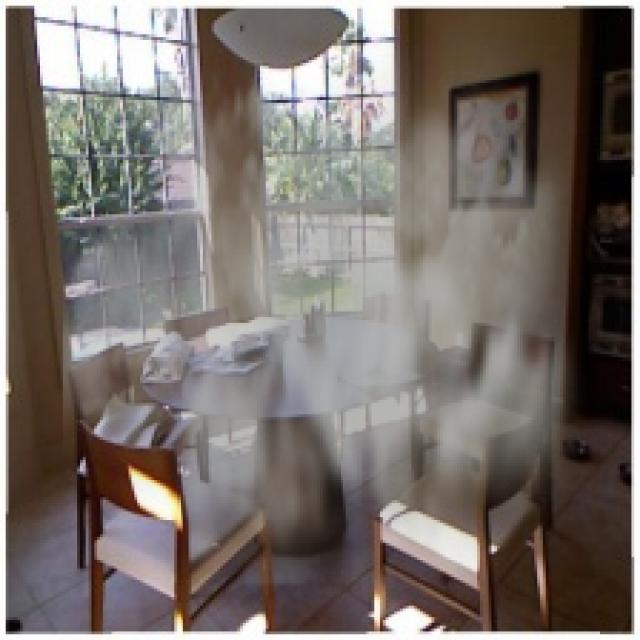smoke: (63, 17, 608, 586)
